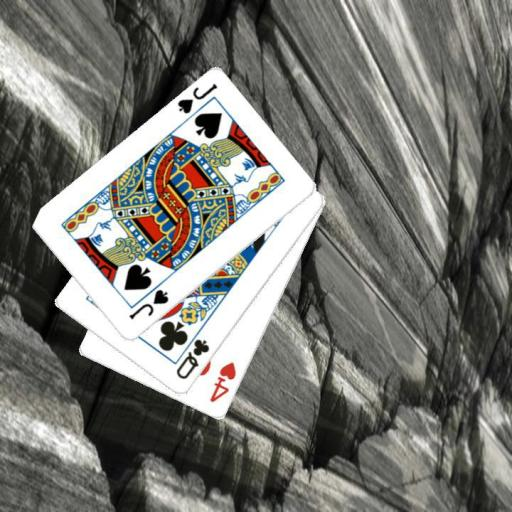4H: (206, 359, 238, 405)
JS: (174, 80, 219, 116), (126, 286, 171, 321)
QC: (173, 336, 211, 381)
